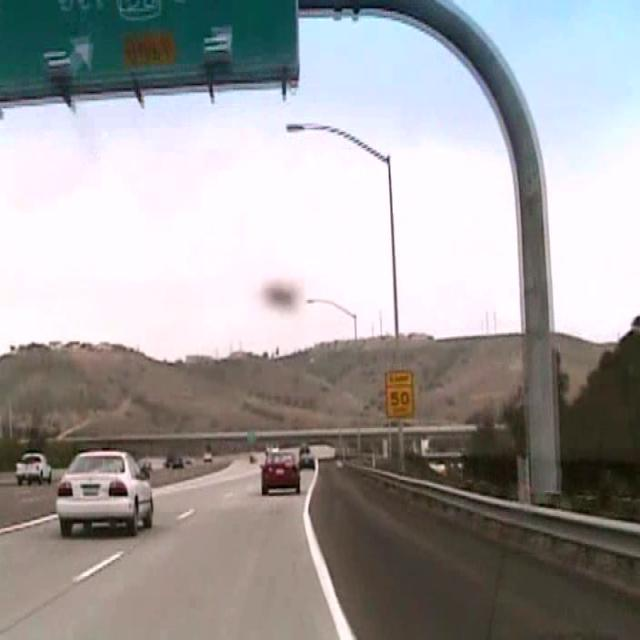speedLimit50: (384, 368, 414, 419)
